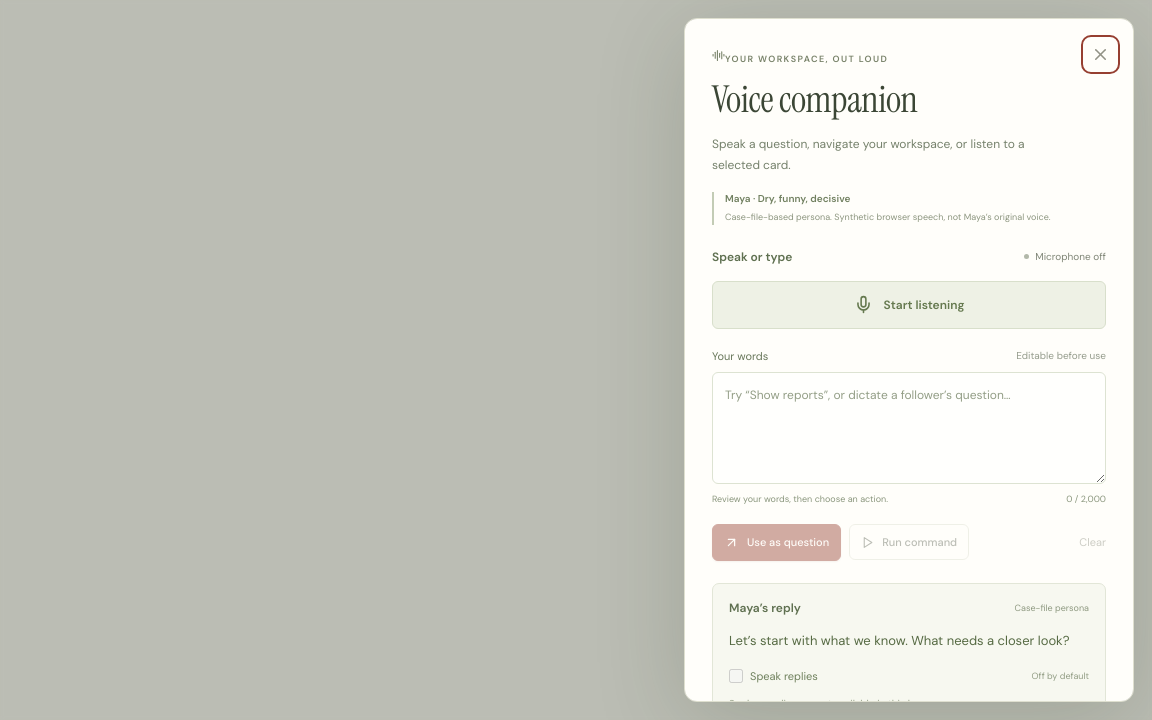
it: voice input lifecycle with simulated browser events › recovers interim words if manual stop never completes and rejects a late final
This screenshot has width=1152, height=720.
What coordinates should you click on to do the following:
click the button "Start listening"
I would click on:
 (909, 305)
Its box is left=712, top=281, right=1106, bottom=329.
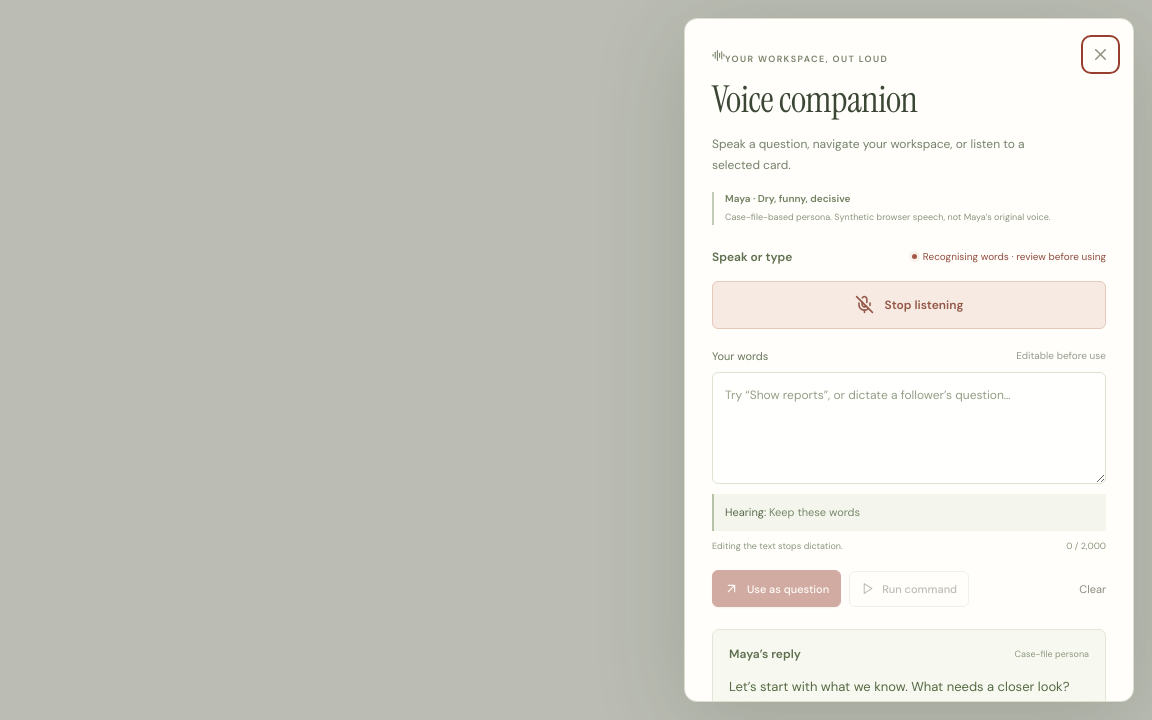
What coordinates should you click on to do the following:
click the button "Stop listening"
I would click on:
 (909, 305)
Its box is left=712, top=281, right=1106, bottom=329.
Wait 3000 ms
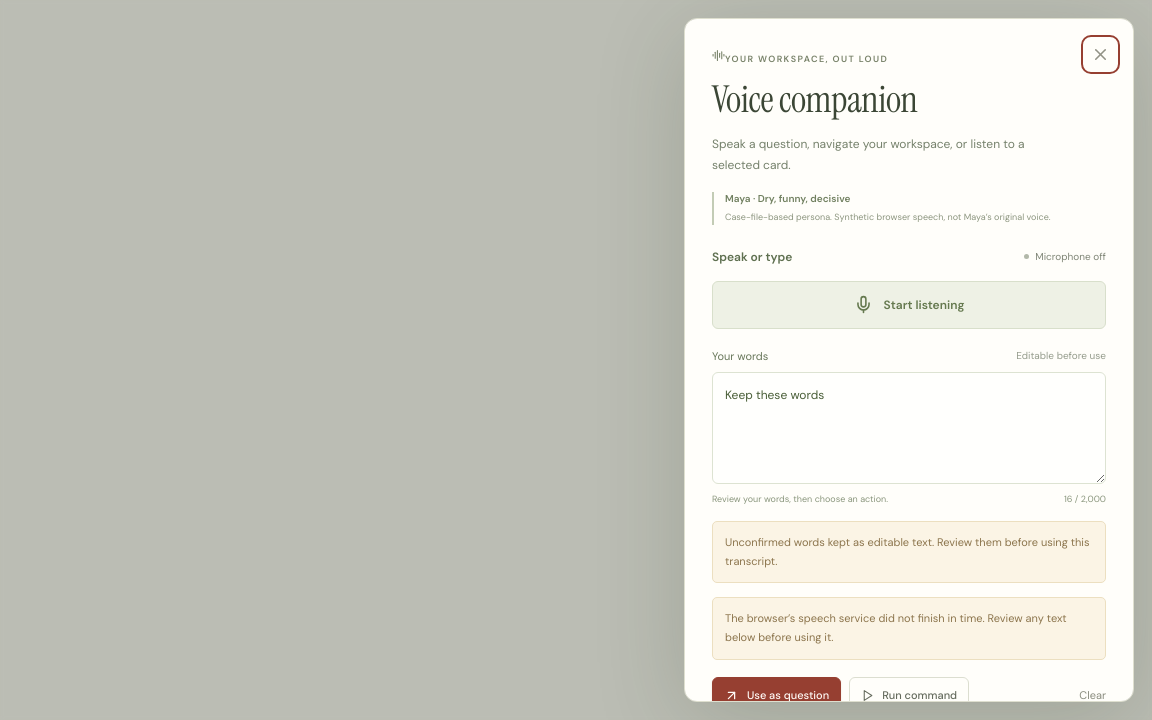
Expected: the text "Unconfirmed words kept as editable text. Review them before using this transcript." is shown, left=725, top=535, right=1090, bottom=568
Expected: the text "did not finish in time" is shown, left=725, top=611, right=1067, bottom=644
Expected: the text box holds "Keep these words", left=712, top=372, right=1106, bottom=484
